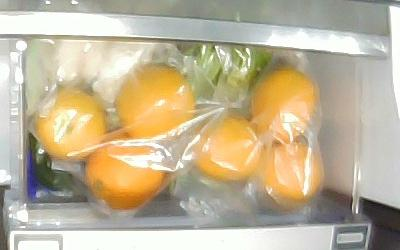orange_vinyl: (84, 136, 164, 210), (116, 66, 195, 139), (36, 90, 104, 161), (193, 115, 261, 183), (252, 69, 316, 138), (258, 140, 322, 205)
